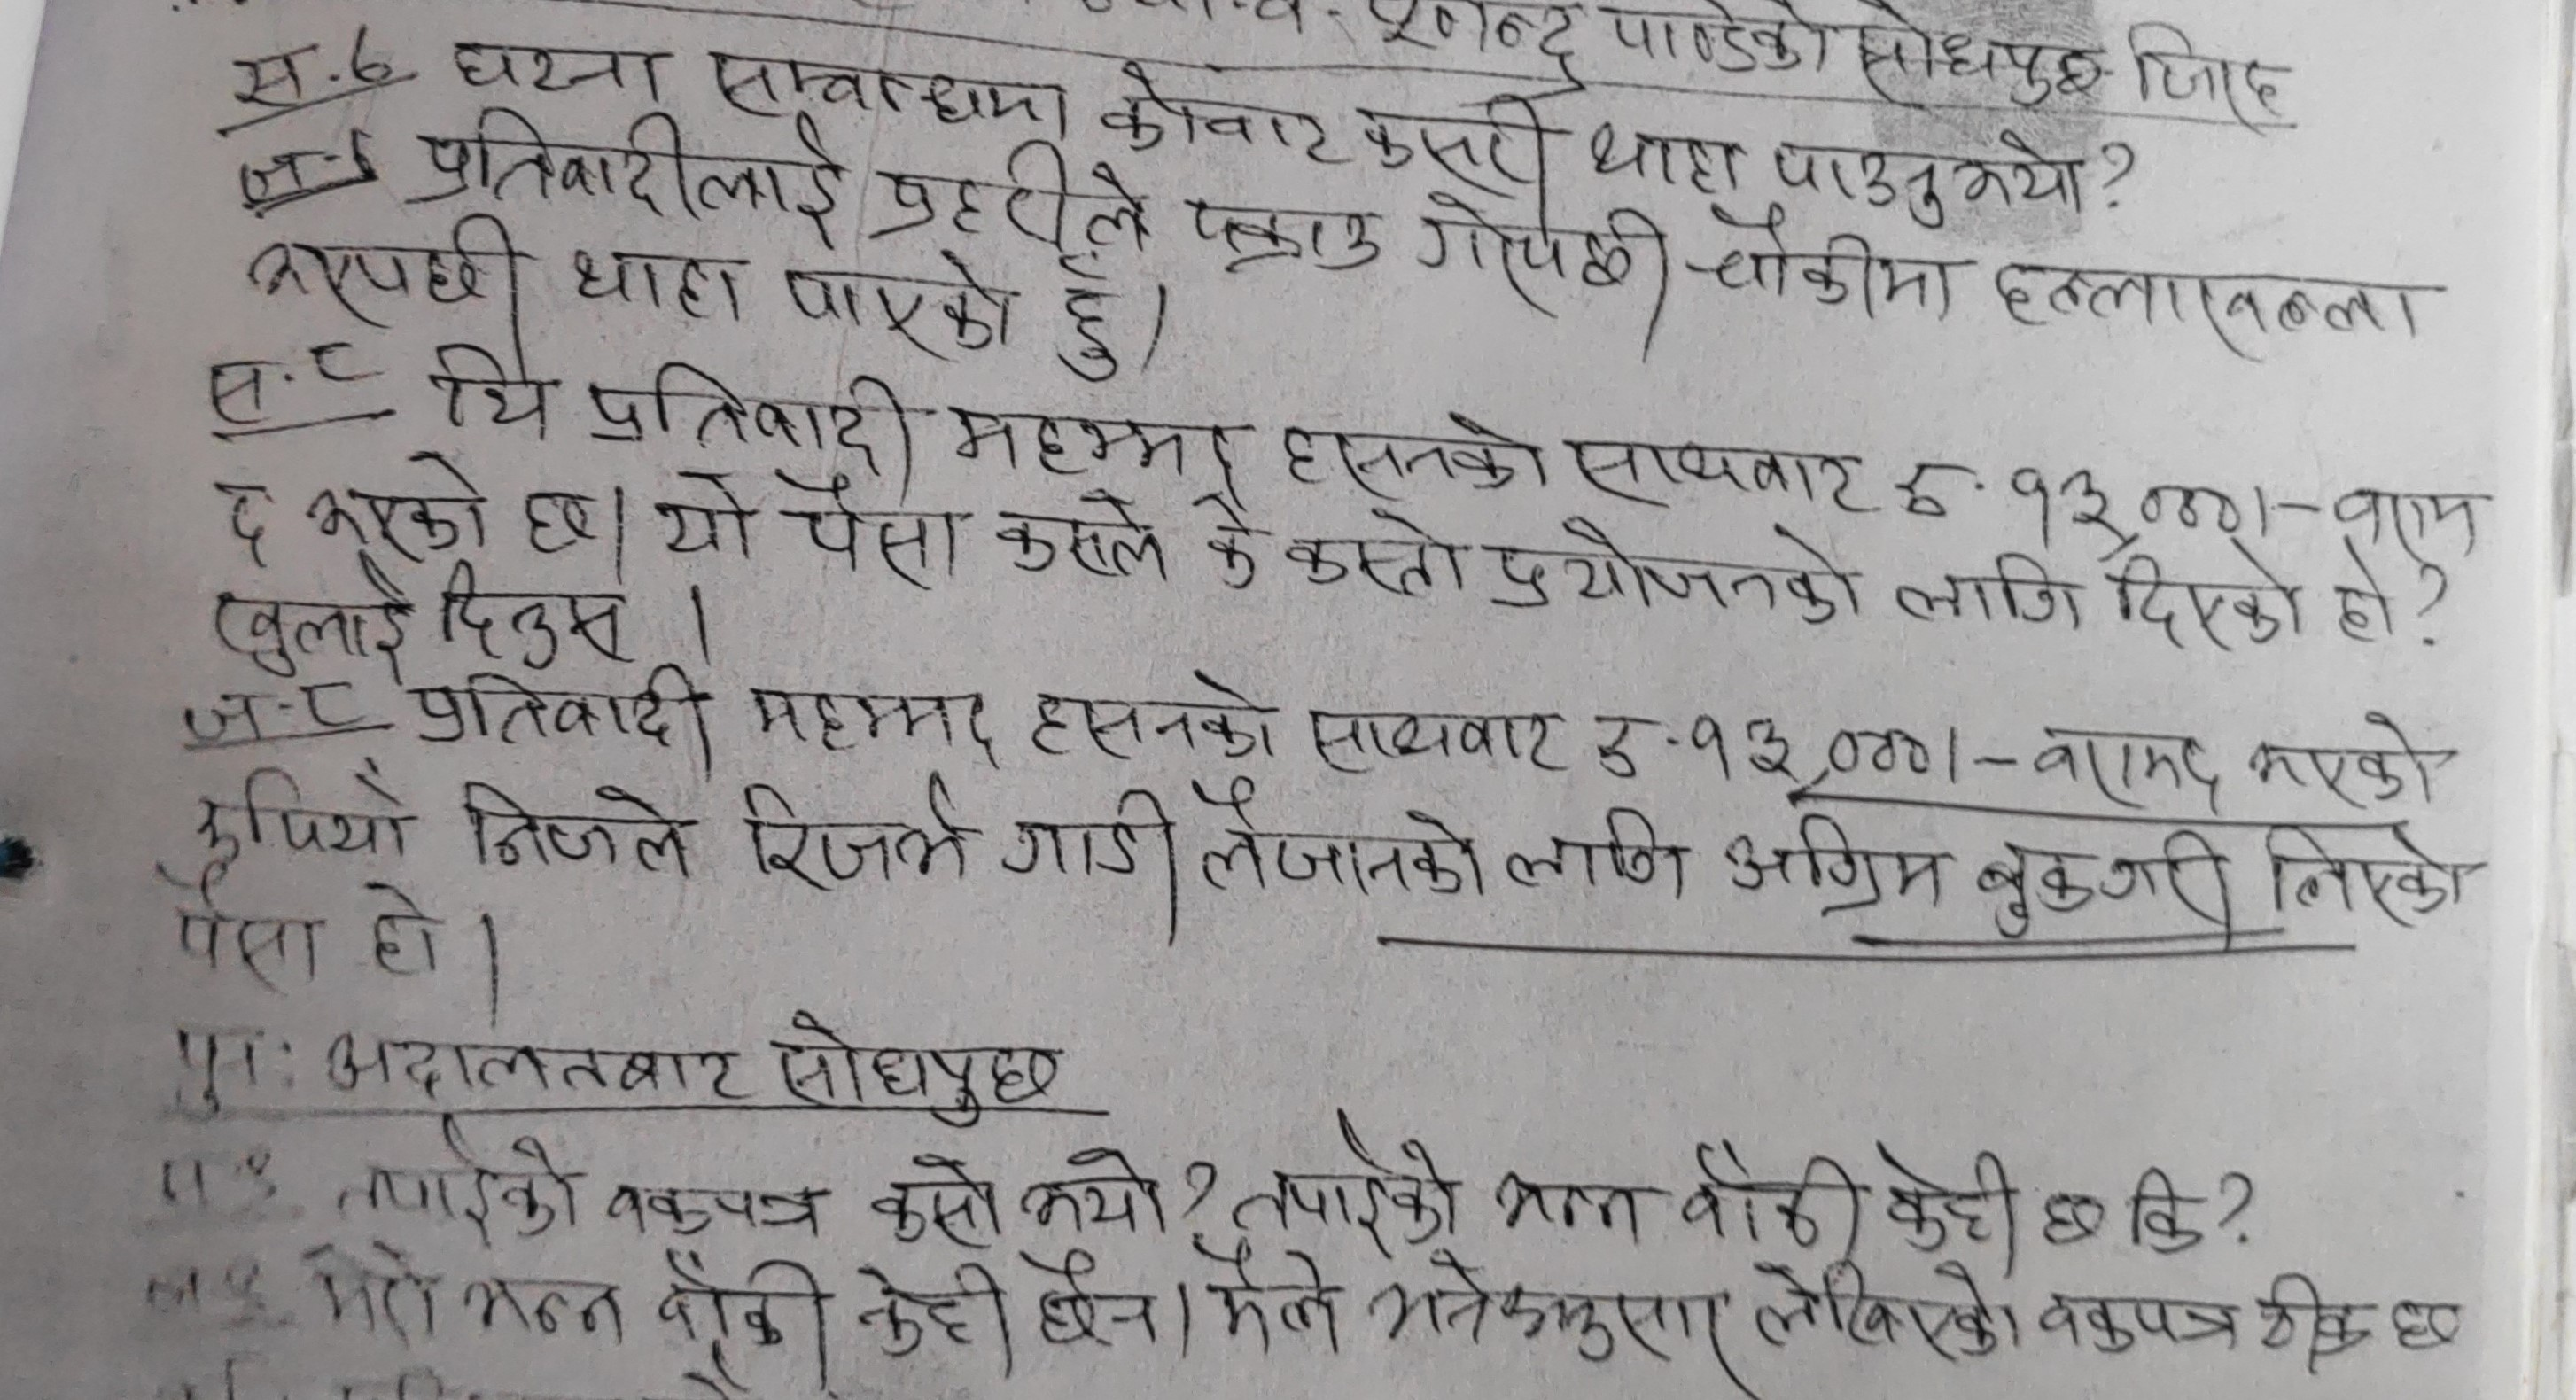text: (1983, 245, 2424, 362), (407, 105, 843, 219), (1366, 1250, 1735, 1381), (1486, 514, 1869, 628), (1404, 186, 1685, 336), (314, 1019, 759, 1110), (1195, 767, 1486, 905), (585, 350, 914, 471), (335, 1110, 585, 1250), (1769, 121, 2095, 228), (771, 1005, 1067, 1122), (705, 40, 1078, 133), (717, 767, 981, 897), (1890, 453, 2248, 548), (1750, 1255, 2026, 1374), (869, 140, 1159, 250), (247, 212, 531, 324), (1979, 822, 2245, 940), (1228, 1117, 1460, 1250), (1586, 705, 1941, 790), (1850, 3, 2121, 110), (1564, 428, 1871, 521), (414, 672, 719, 766), (785, 240, 1016, 362), (162, 760, 414, 871), (1019, 664, 1285, 767), (1093, 57, 1350, 164), (205, 553, 414, 679), (452, 772, 697, 879), (1271, 405, 1555, 497), (1007, 781, 1186, 926), (940, 395, 1235, 483), (1305, 686, 1578, 781), (741, 671, 1004, 767), (1723, 805, 1947, 917), (771, 464, 969, 586), (1669, 1138, 1869, 1259), (2262, 814, 2476, 926), (1679, 198, 1879, 317), (428, 555, 633, 671), (2104, 538, 2305, 655), (1354, 86, 1557, 198), (850, 1257, 1022, 1381), (302, 448, 497, 557), (648, 1248, 831, 1362), (1502, 800, 1698, 905), (172, 860, 326, 993), (2245, 709, 2450, 807), (1888, 548, 2088, 645), (2028, 719, 2226, 816), (598, 1172, 841, 1248), (990, 490, 1172, 590), (2035, 1283, 2236, 1372), (1198, 1238, 1352, 1353), (1179, 191, 1385, 278), (421, 317, 560, 443), (1612, 2, 1838, 79), (1279, 512, 1471, 603), (224, 21, 398, 121), (1871, 1140, 2016, 1259), (172, 672, 379, 753), (300, 1240, 453, 1348), (2121, 17, 2288, 114), (459, 1262, 635, 1353), (440, 33, 669, 102), (874, 1150, 1016, 1259), (1021, 1248, 1160, 1357), (571, 240, 750, 322), (2252, 1262, 2379, 1376), (1021, 1140, 1172, 1233), (1585, 114, 1745, 202), (1486, 1166, 1650, 1250), (2317, 474, 2488, 545), (157, 1017, 269, 1121), (648, 469, 764, 567), (1047, 252, 1128, 386), (352, 874, 457, 978), (2324, 534, 2410, 647), (2119, 1162, 2207, 1266), (1179, 490, 1266, 595), (1873, 243, 1979, 324), (198, 353, 295, 429), (2388, 1288, 2479, 1360), (517, 481, 598, 562), (209, 471, 276, 567), (2035, 1183, 2114, 1247)
